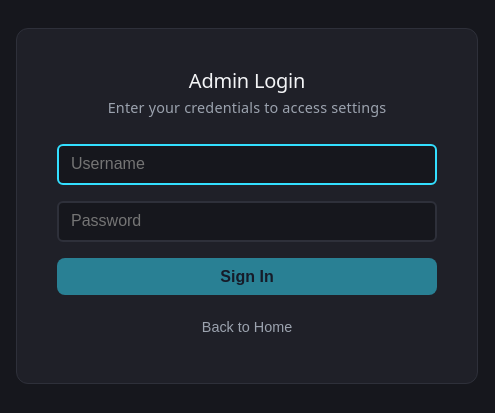
Test case: AdminLogin › shows error from response body when available
Type "admin" into the field with placeholder "Username".
click(247, 164); type("admin")  # box [57,144,437,185]
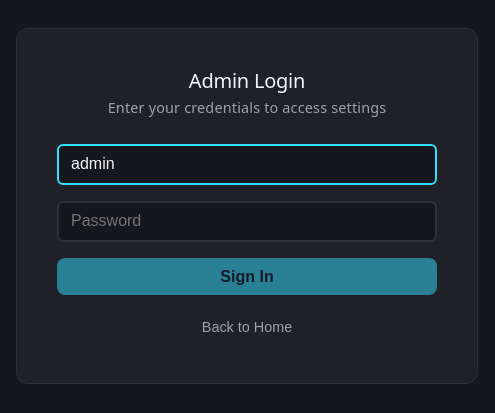
Type "pass" into the password field with placeholder "Password".
click(247, 221); type("pass")  # box [57,201,437,242]
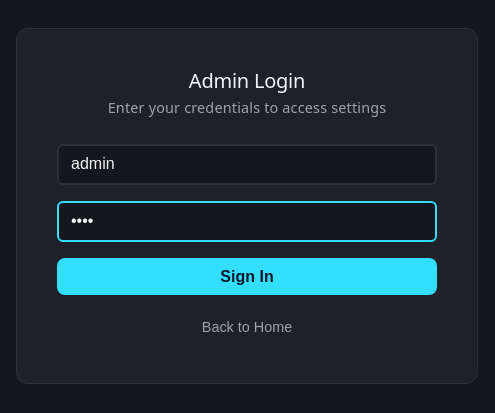
Click the button "Sign In".
click(247, 277)  # box [57,258,437,295]
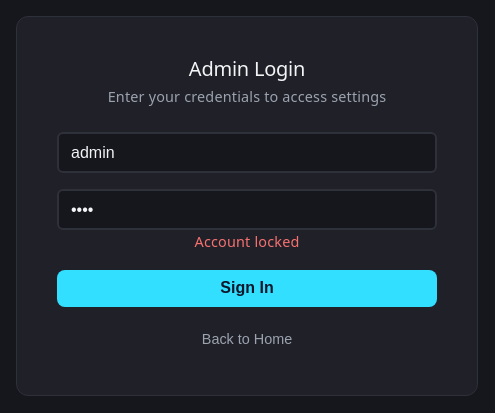
Expected: the text "Account locked" is shown, [194,232,300,251]
